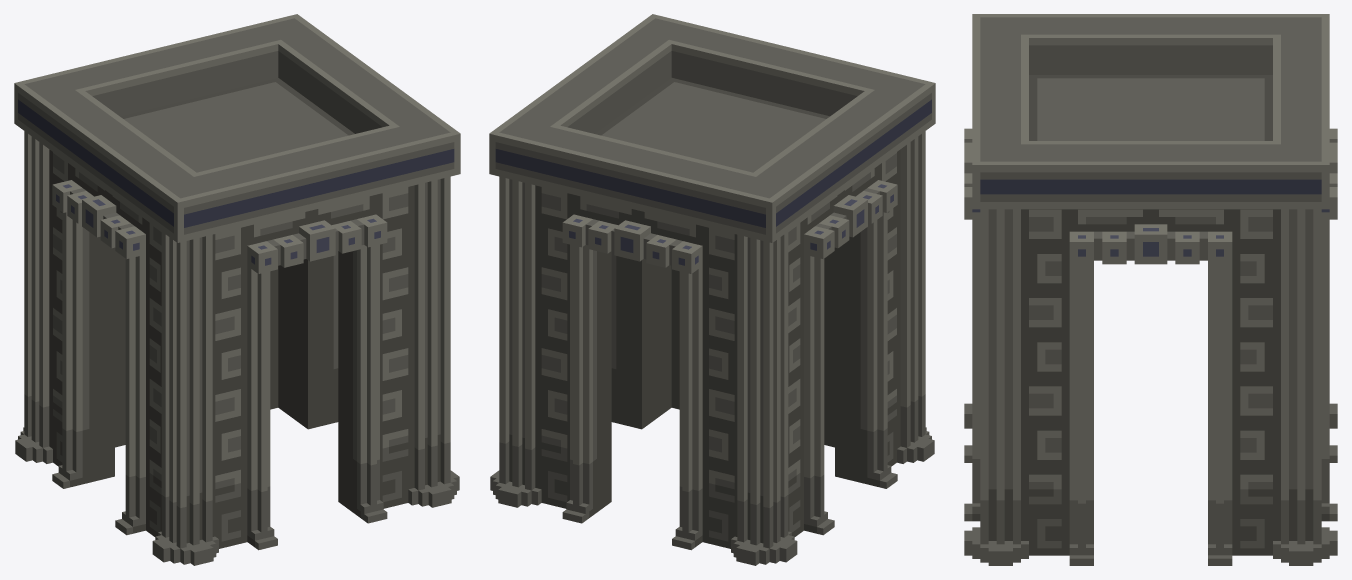
The model's file is struct-3-platform.obj.
3 views of the same model, side by side, from view 1: azimuth 30°, elevation 25°; view 2: azimuth 150°, elevation 25°; view 3: azimuth 270°, elevation 25° (orthographic). The views are drawn at different scales.
Visible parts, largest first — view 1: platform; view 2: platform; view 3: platform.
Part boxes in pixels (x1,y1,x2,y2): platform: [14, 14, 460, 565]; platform: [489, 14, 935, 565]; platform: [964, 14, 1337, 565].
Size of the model in its own units: 4.6 by 5.4 by 4.6.
1 material, 1 textured.
